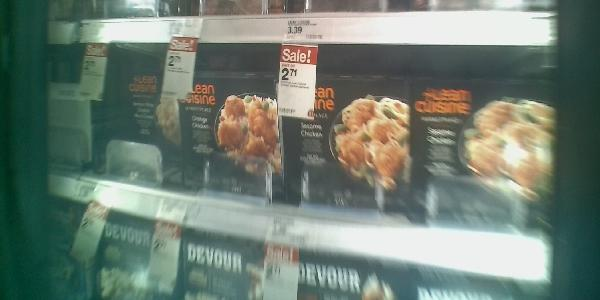pizza1: (416, 75, 555, 240), (283, 76, 412, 220), (177, 76, 285, 205), (117, 78, 173, 175)
